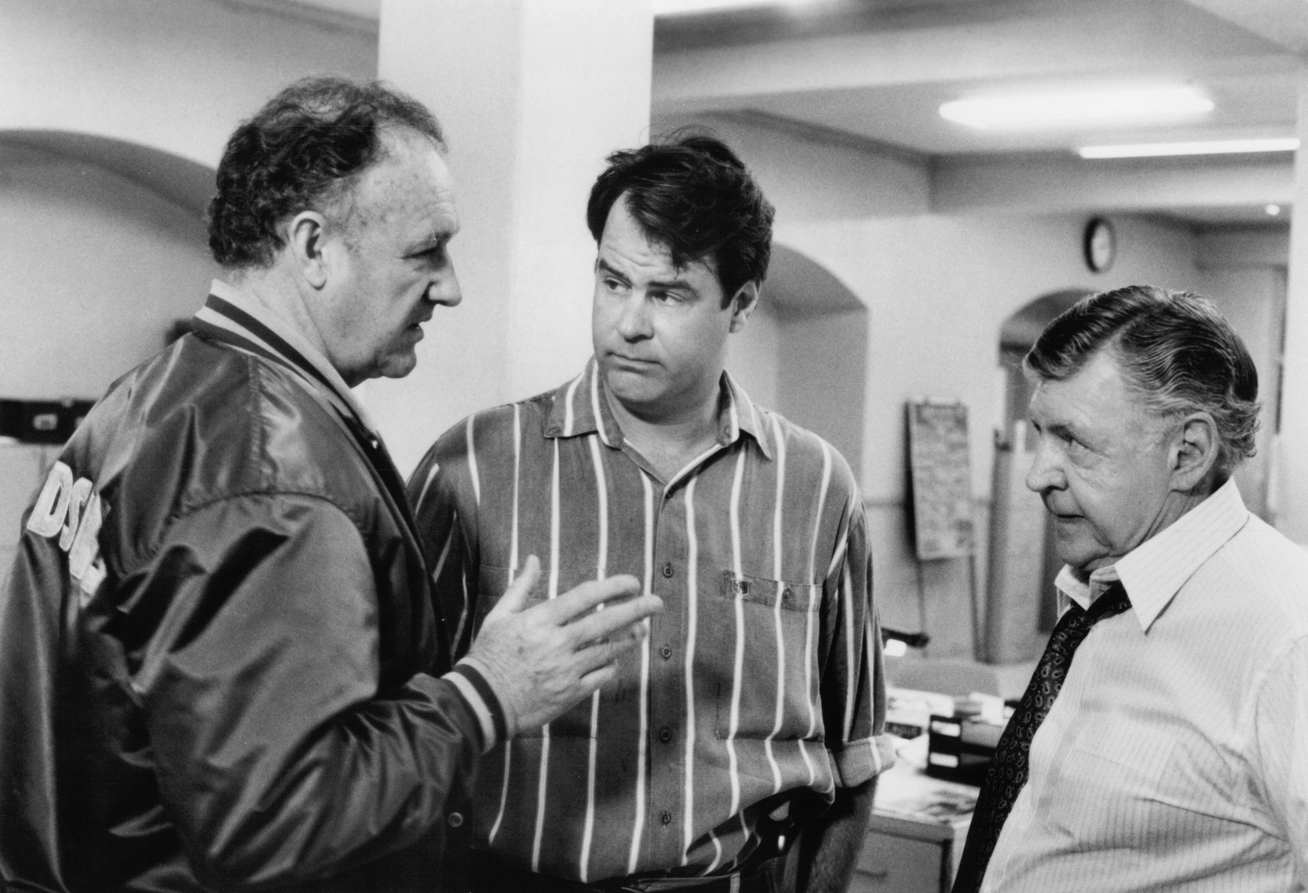37: (566, 171, 746, 432)
57: (300, 117, 485, 414)
63: (1001, 321, 1190, 595)
Female: (300, 117, 485, 414)
Jacket: (1, 271, 515, 892)
Male: (1001, 321, 1190, 595), (566, 171, 746, 432)
Shirt: (397, 348, 897, 893), (977, 466, 1304, 893)
Tie: (950, 557, 1137, 892)
